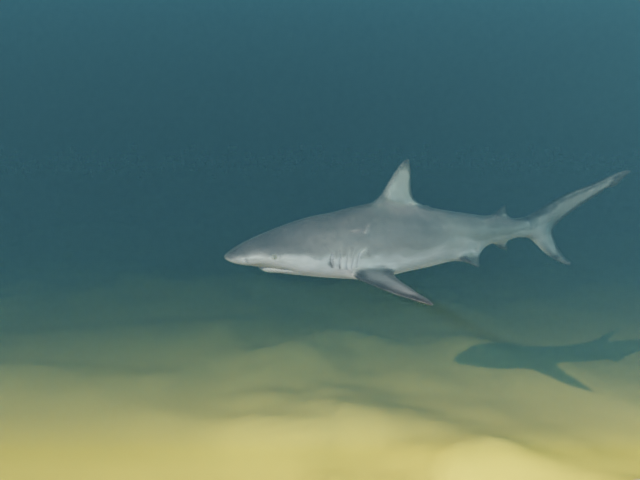Carribean Shark.001: (224, 158, 630, 305)
